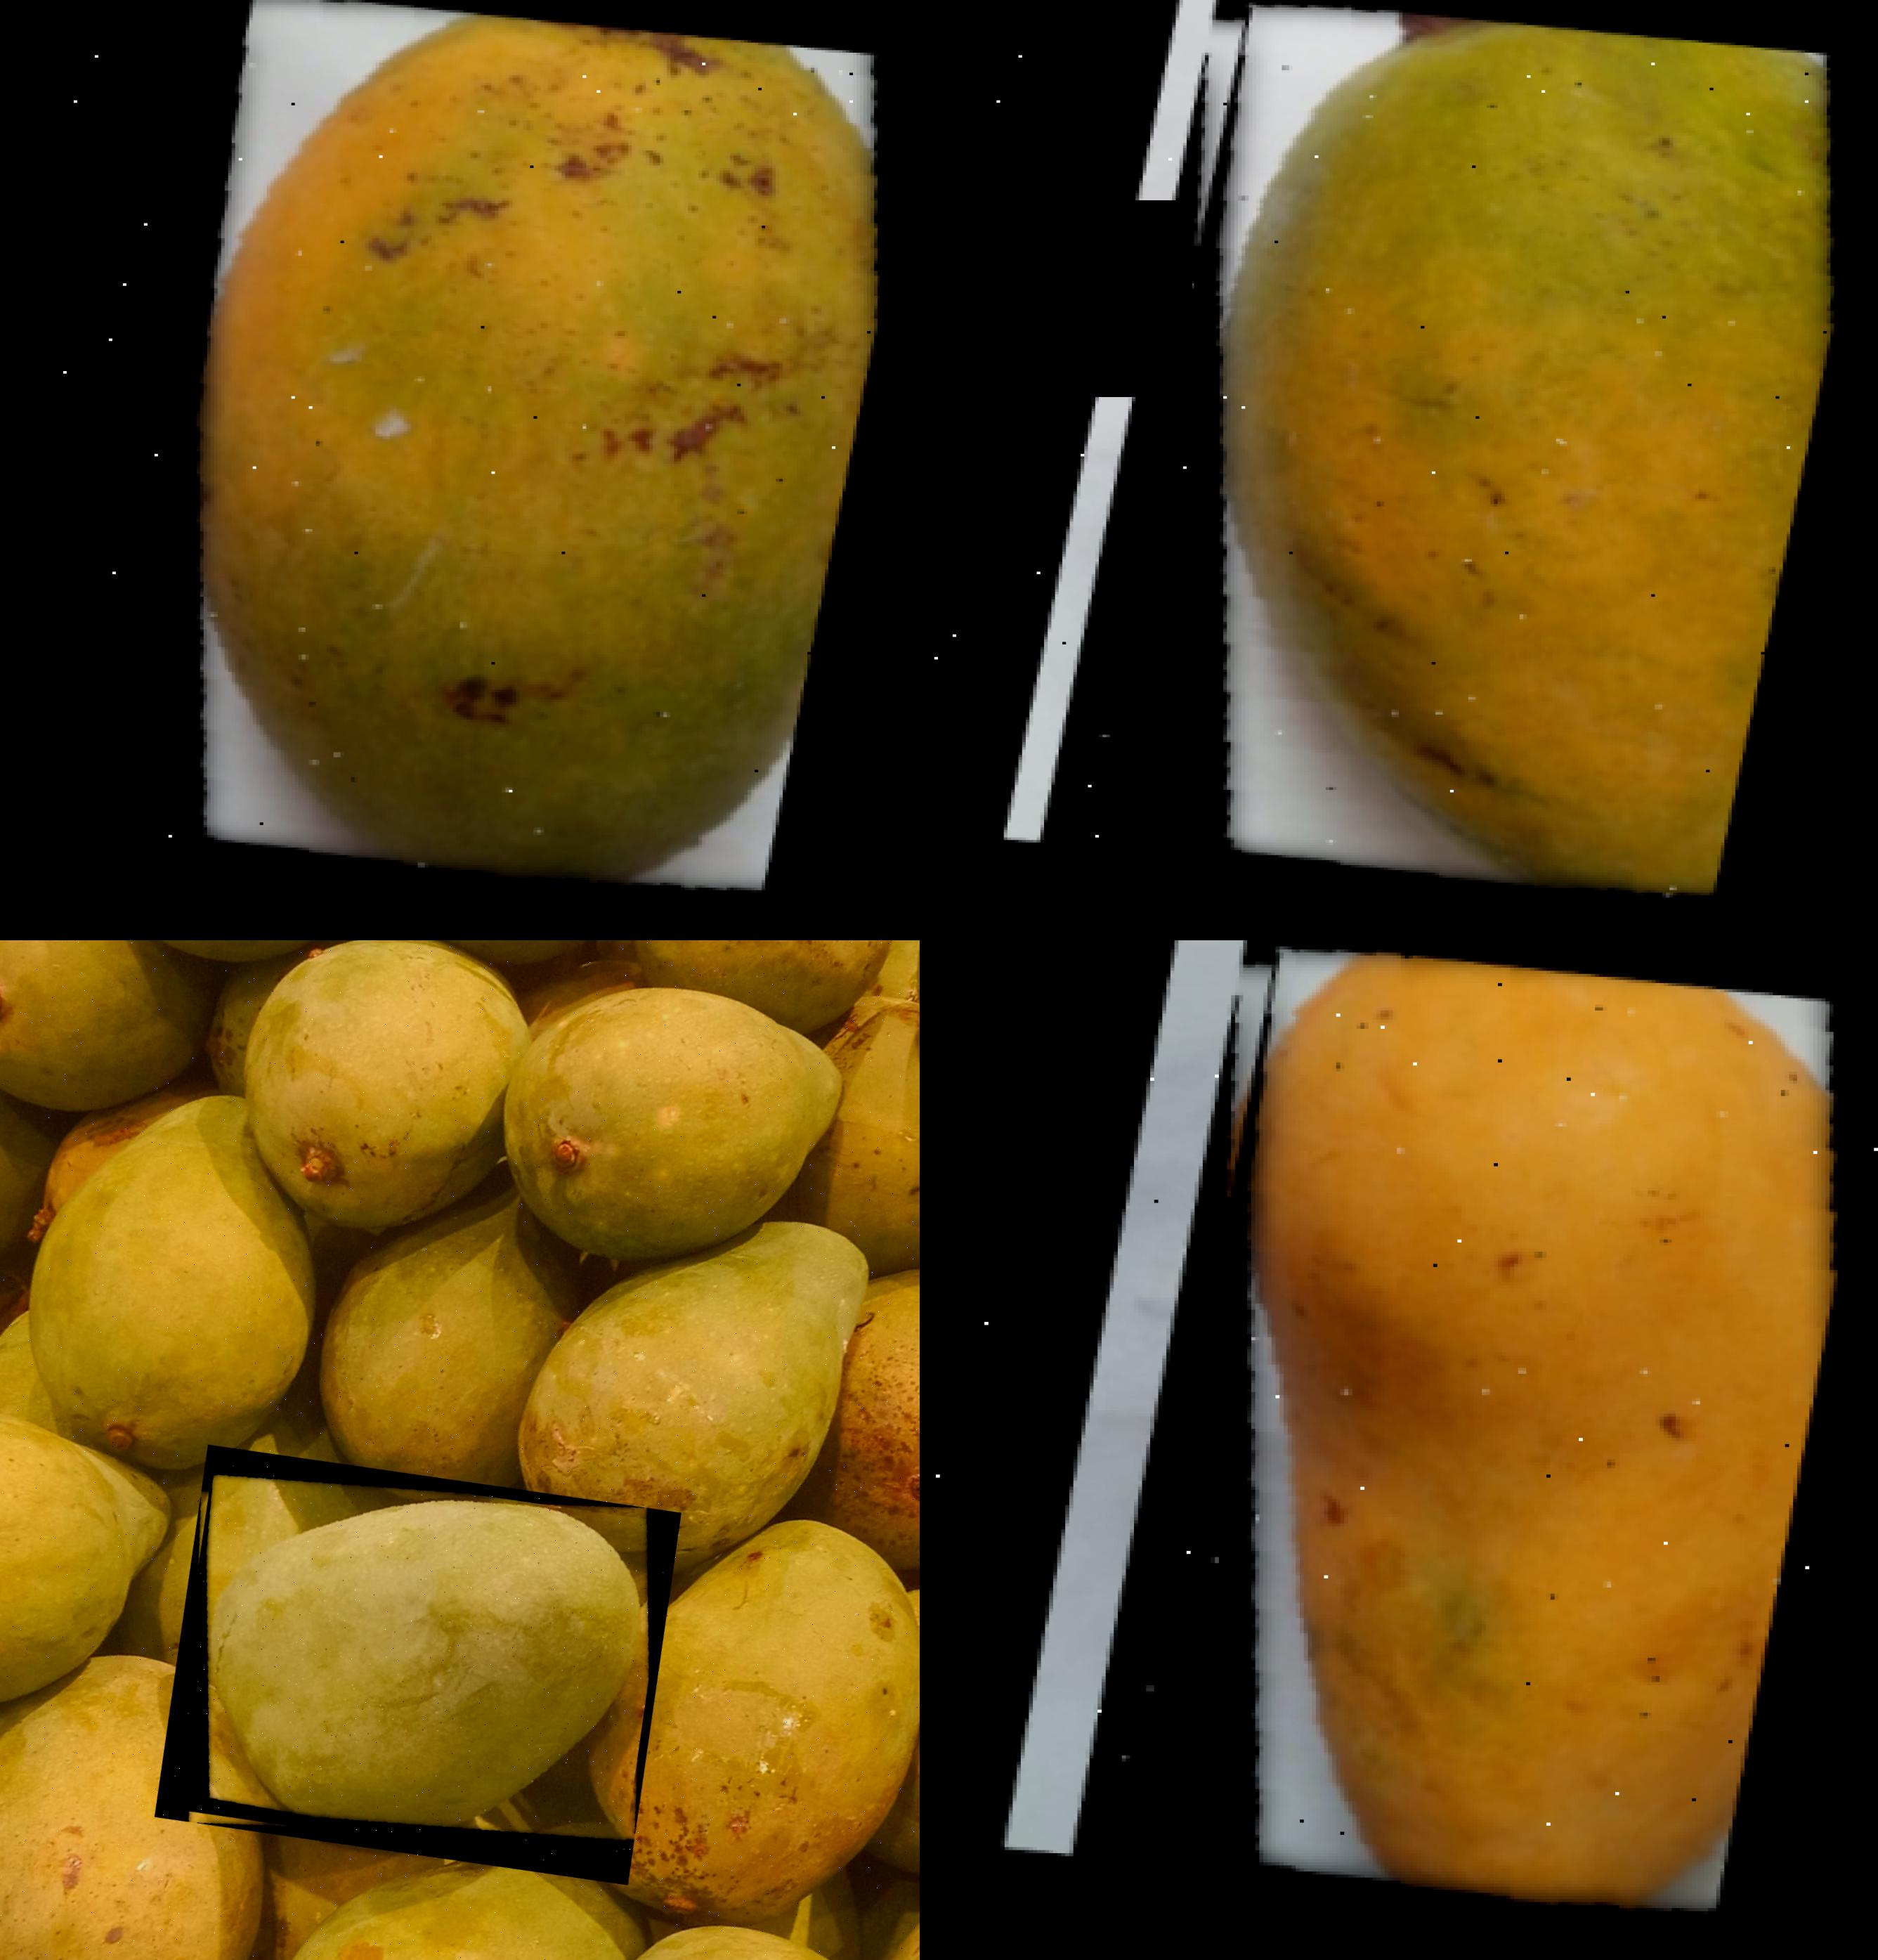PartiallyRipe: (0, 0, 919, 940), (987, 0, 1878, 938)
Ripe: (1019, 940, 1878, 1955), (140, 1426, 693, 1902)
